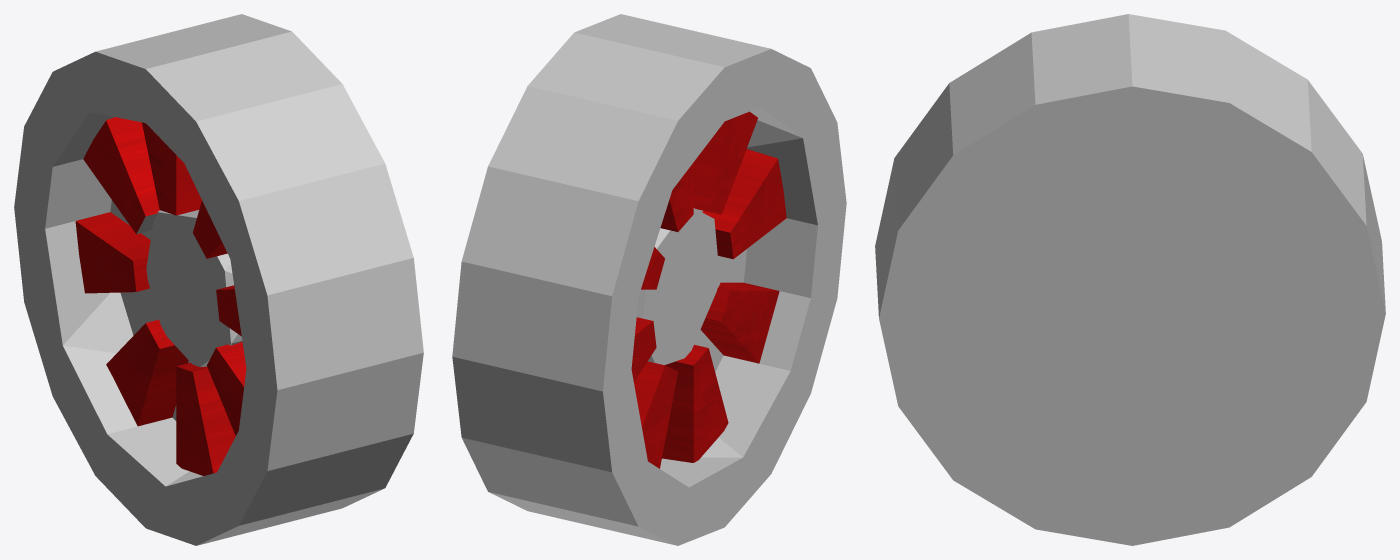
File: Car.gltf
3 renders of one model, left to right at view 1: azimuth 30°, elevation 25°; view 2: azimuth 150°, elevation 25°; view 3: azimuth 270°, elevation 25°, orthographic.
Visible parts, largest first — view 1: roues_avant_droite; view 2: roues_avant_droite; view 3: roues_avant_droite.
Boxes of the visible parts, x1,y1,x2,y2 form: roues_avant_droite: (14, 14, 423, 545); roues_avant_droite: (452, 14, 846, 545); roues_avant_droite: (875, 14, 1385, 545).
Bounding box in the file's own units: 0.4579 × 1.27 × 1.28.
